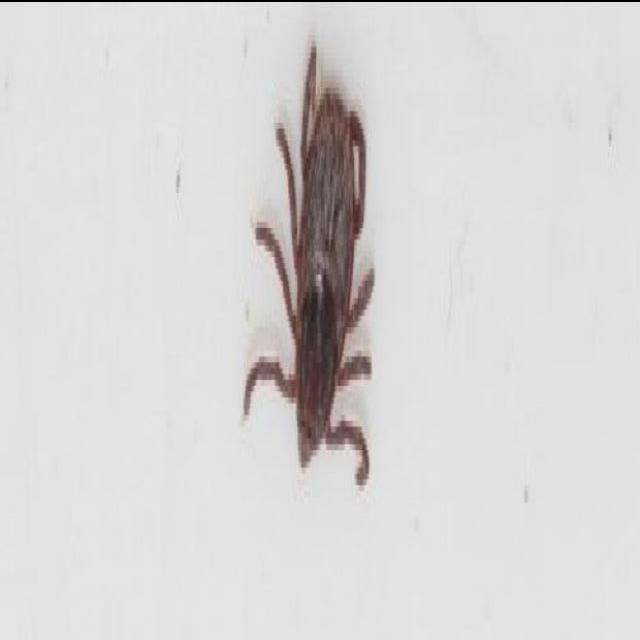Rhipicephalus Sanguineus-F: (250, 39, 375, 489)
